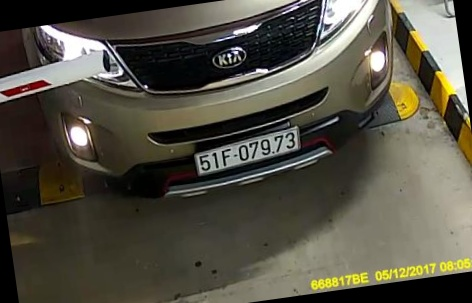plate: (186, 126, 304, 181)
